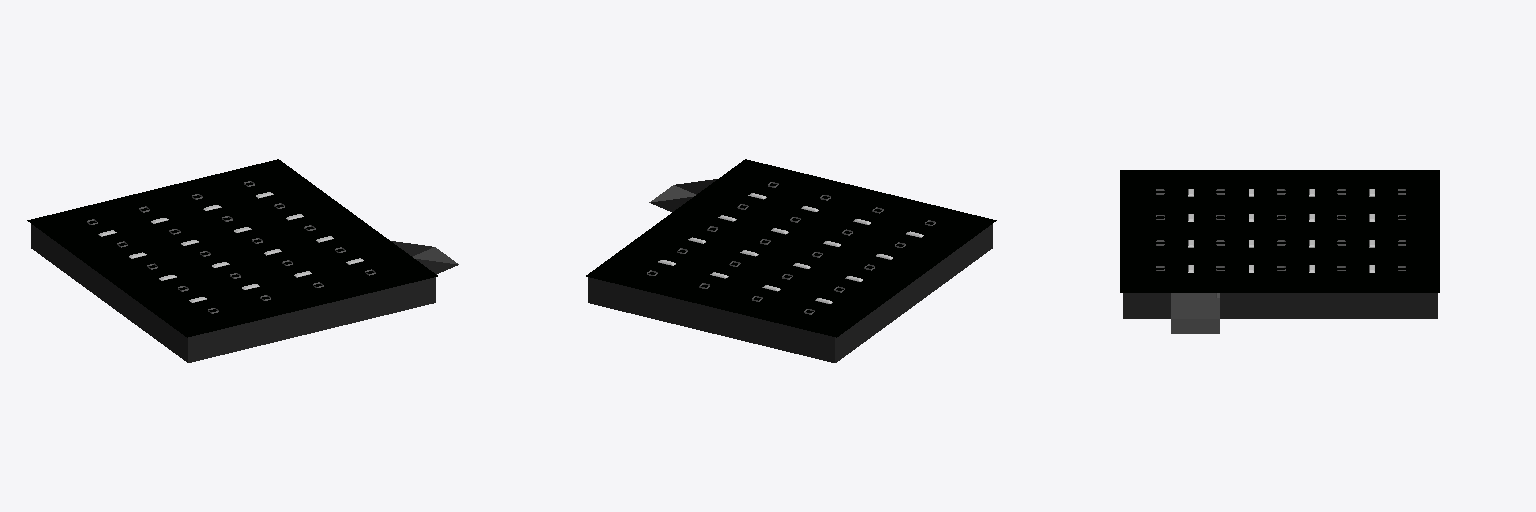
The model's file is CarPark.obj.
The picture shows the model from 3 angles: view 1: azimuth 30°, elevation 25°; view 2: azimuth 150°, elevation 25°; view 3: azimuth 270°, elevation 25°; orthographic projection.
Parts seen in each view (by area): view 1: Plane.001, Plane, Cube.002_Cube.006; view 2: Plane.001, Plane, Cube.002_Cube.006; view 3: Plane.001, Plane, Plane.019_Plane.034, Cube.002_Cube.006.
Part boxes in pixels (bbox=[...]): Plane.001: bbox=[27, 159, 437, 337]; Plane: bbox=[31, 224, 457, 362]; Cube.002_Cube.006: bbox=[87, 181, 375, 313]; Plane.001: bbox=[586, 159, 996, 337]; Plane: bbox=[588, 179, 992, 362]; Cube.002_Cube.006: bbox=[647, 182, 935, 314]; Plane.001: bbox=[1120, 170, 1439, 292]; Plane: bbox=[1123, 293, 1437, 318]; Plane.019_Plane.034: bbox=[1171, 293, 1219, 333]; Cube.002_Cube.006: bbox=[1156, 189, 1405, 297].
Bounding box in the file's own units: 28.45 × 2.71 × 26.49.